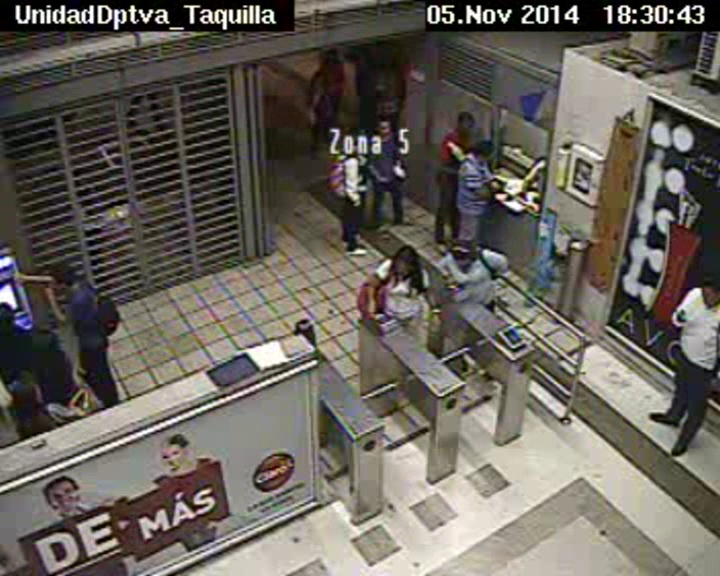person: (9, 378, 43, 414), (391, 244, 419, 276), (50, 258, 77, 287), (696, 274, 720, 305), (451, 238, 475, 265), (1, 303, 21, 332), (341, 130, 365, 154), (454, 109, 477, 134), (476, 137, 497, 164), (372, 114, 393, 137), (378, 50, 396, 68), (309, 71, 328, 88), (325, 49, 340, 63)
